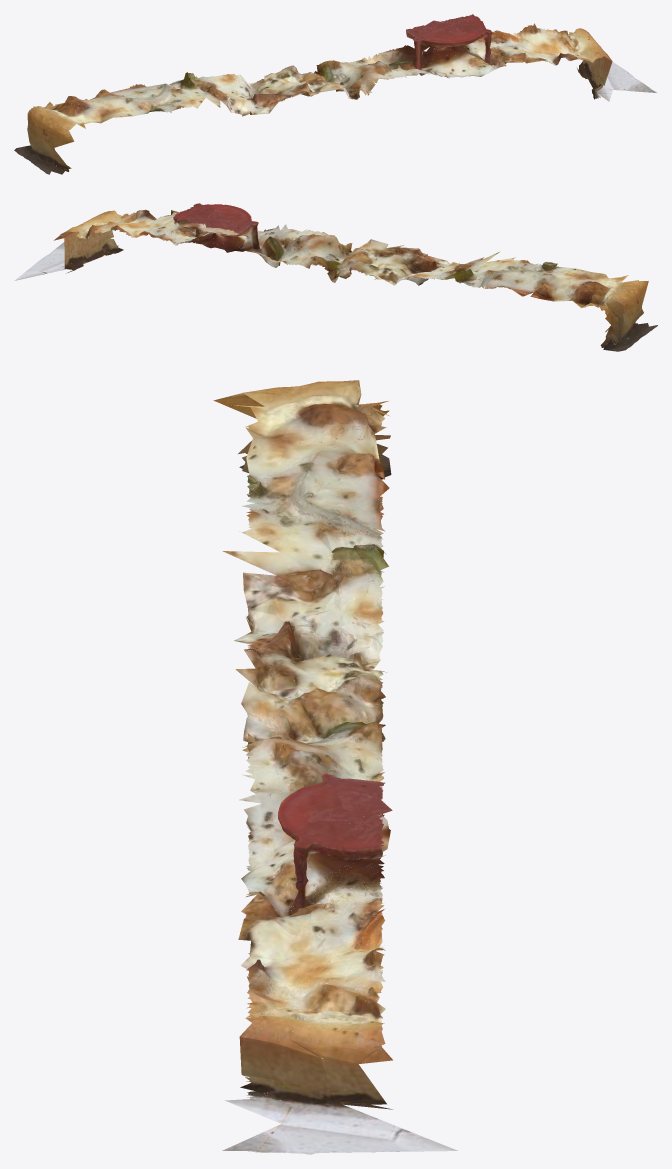
The model's file is pizza_bottom_draco.glb.
3 views of the same model, one above another, from view 1: azimuth 30°, elevation 25°; view 2: azimuth 150°, elevation 25°; view 3: azimuth 270°, elevation 25° (orthographic). The views are drawn at different scales.
Visible parts, largest first — view 1: Object_7.001, Object_8.001, Object_5.001, Object_6.001, Object_12.001, Object_9.001, Object_11.001, Object_10.001; view 2: Object_8.001, Object_5.001, Object_6.001, Object_7.001, Object_12.001, Object_10.001, Object_9.001, Object_11.001; view 3: Object_5.001, Object_6.001, Object_7.001, Object_8.001, Object_9.001, Object_11.001, Object_10.001, Object_12.001.
Boxes of the visible parts, box(x1,y1,x2,y2) form: Object_7.001: box(54, 14, 599, 119); Object_8.001: box(14, 84, 158, 174); Object_5.001: box(264, 23, 656, 101); Object_6.001: box(122, 74, 376, 116); Object_12.001: box(364, 15, 557, 75); Object_9.001: box(28, 28, 607, 171); Object_11.001: box(169, 24, 583, 89); Object_10.001: box(129, 58, 366, 94); Object_8.001: box(489, 262, 657, 351); Object_5.001: box(14, 210, 389, 280); Object_6.001: box(325, 235, 557, 288); Object_7.001: box(89, 203, 617, 293); Object_12.001: box(114, 206, 306, 267); Object_10.001: box(281, 247, 525, 289); Object_9.001: box(62, 205, 648, 341); Object_11.001: box(79, 205, 490, 287); Object_5.001: box(222, 663, 457, 1154); Object_6.001: box(222, 462, 385, 745); Object_7.001: box(239, 393, 392, 1100); Object_8.001: box(213, 380, 391, 526); Object_9.001: box(238, 381, 384, 1098); Object_11.001: box(291, 530, 388, 1024); Object_10.001: box(327, 488, 386, 780); Object_12.001: box(291, 751, 384, 998).
Size of the model in its own units: 0.3192 by 0.0551 by 0.0571.
1 material, 1 textured.
